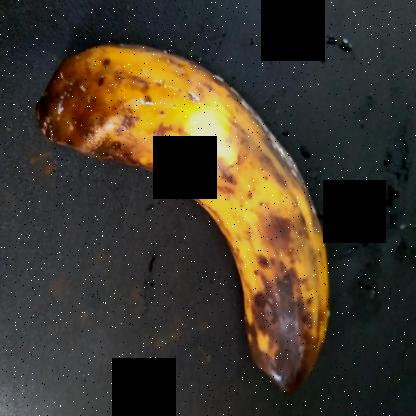rotten: (37, 21, 352, 415)
